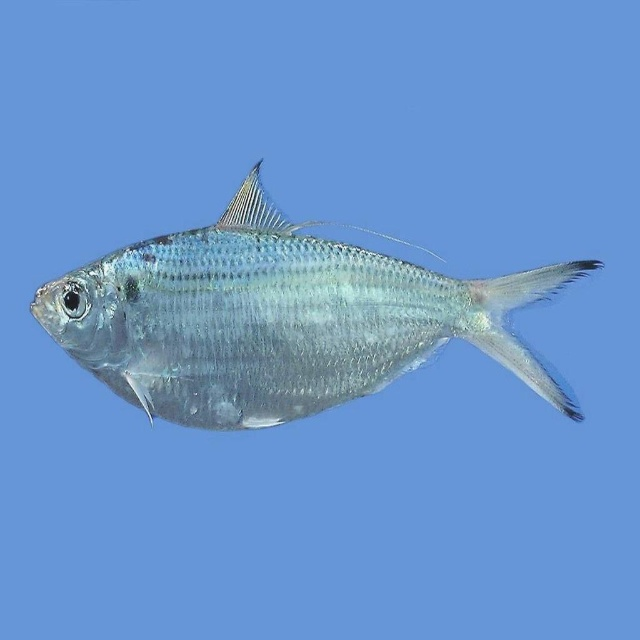Fish: (28, 159, 604, 424)
